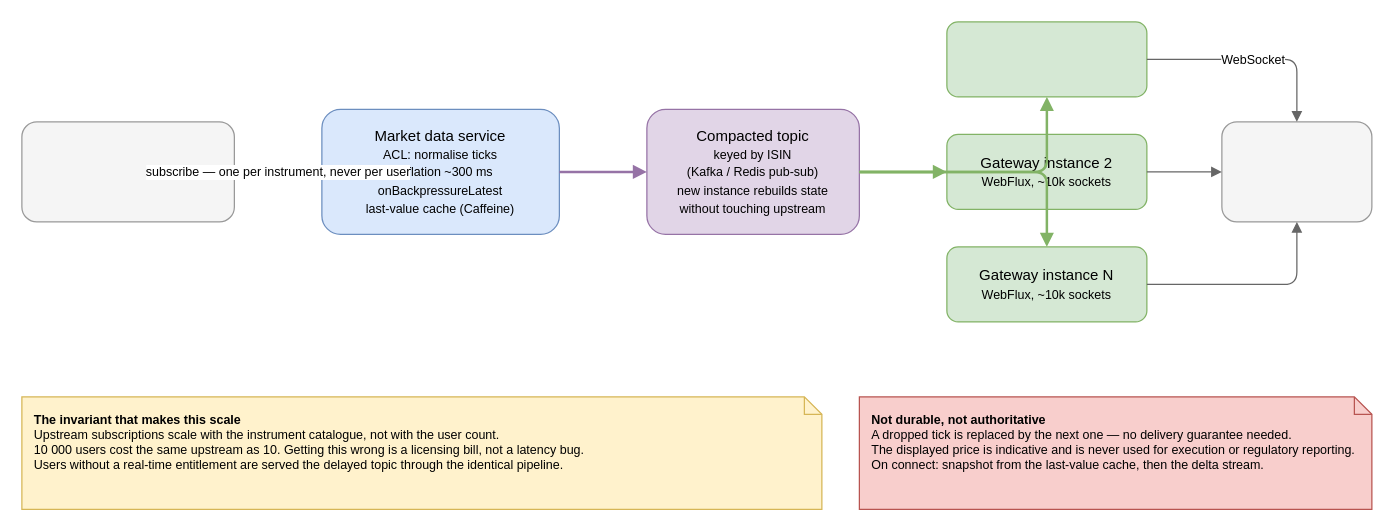
The diagram is 1394 pixels wide and 531 high, and some of its shapes have lost their labels. The shapes that lost their labels are listed below. From the top down, each one's box as (x1, y1, x2, y2) in pixels, then its label:
(946, 21, 1147, 97): Gateway instance 1 WebFlux, ~10k sockets
(21, 121, 234, 222): Market data provider FIX / FAST / WebSocket paid, licensed per end user
(1221, 121, 1372, 222): Clients app / internet bank thousands concurrent
